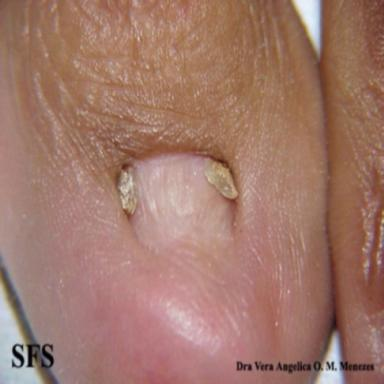Epidermolysis-Bullosa-Pruriginosa: (118, 153, 237, 265)
